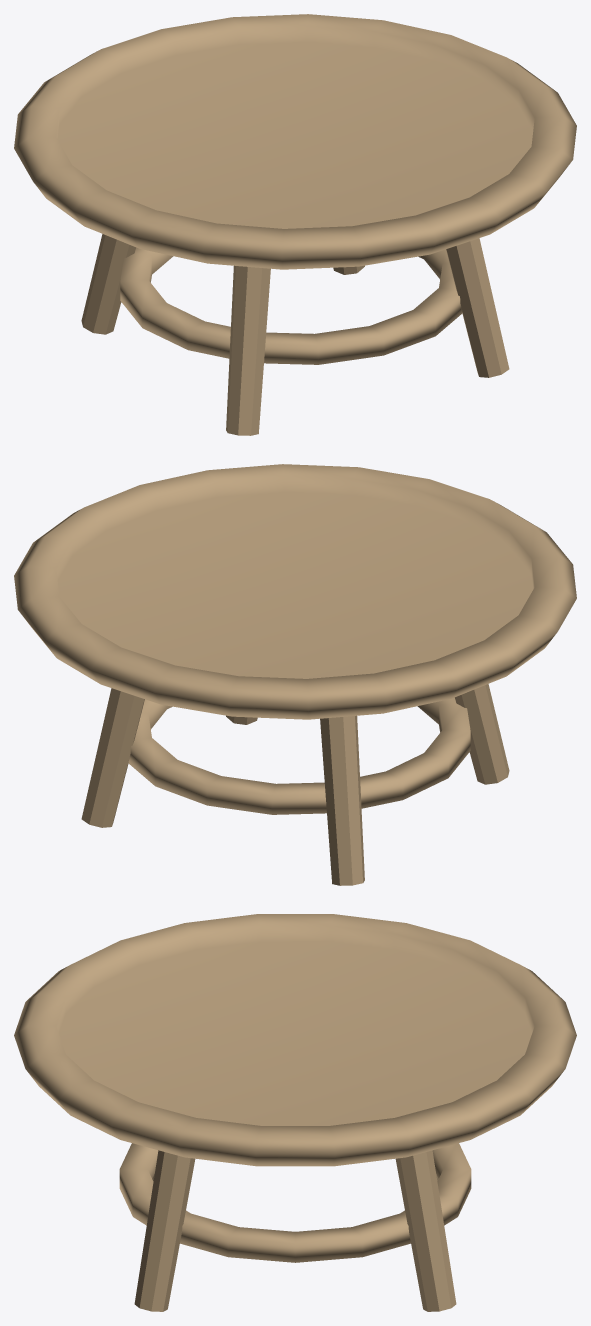
The model's file is korean-hanok-village-and-street-low-table-d9a2a718__38063.glb.
The picture shows the model from 3 angles, top to bottom: view 1: azimuth 30°, elevation 25°; view 2: azimuth 150°, elevation 25°; view 3: azimuth 270°, elevation 25°; orthographic projection.
Visible parts, largest first — view 1: low-table; view 2: low-table; view 3: low-table.
Part boxes in pixels (box(x1,y1,x2,y2)): low-table: box(14, 14, 576, 435); low-table: box(14, 464, 576, 885); low-table: box(14, 914, 576, 1311).
Bounding box in the file's own units: 0.7919 × 0.3504 × 0.8.
